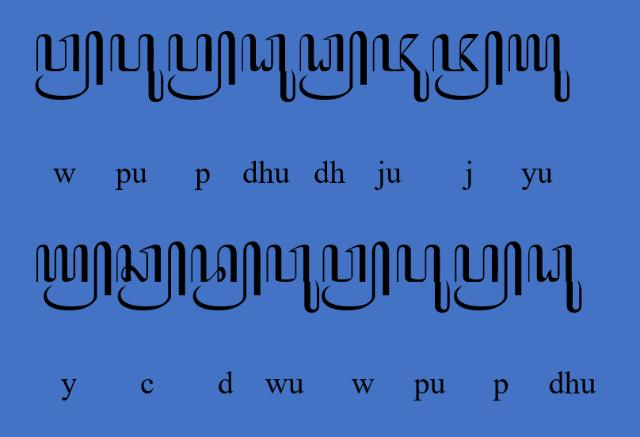-c: (114, 241, 188, 313)
-d: (190, 241, 262, 312)
-dh: (300, 29, 368, 100)
-j: (431, 29, 504, 100)
-p: (452, 241, 522, 310), (168, 29, 236, 100)
-w: (321, 240, 391, 312), (34, 29, 104, 100)
-y: (35, 240, 113, 312)
dhu: (527, 243, 583, 315), (242, 32, 296, 104)
ju: (372, 32, 431, 104)
pu: (110, 31, 164, 103), (397, 244, 451, 315)
wu: (264, 243, 320, 315)
yu: (508, 32, 572, 103)
